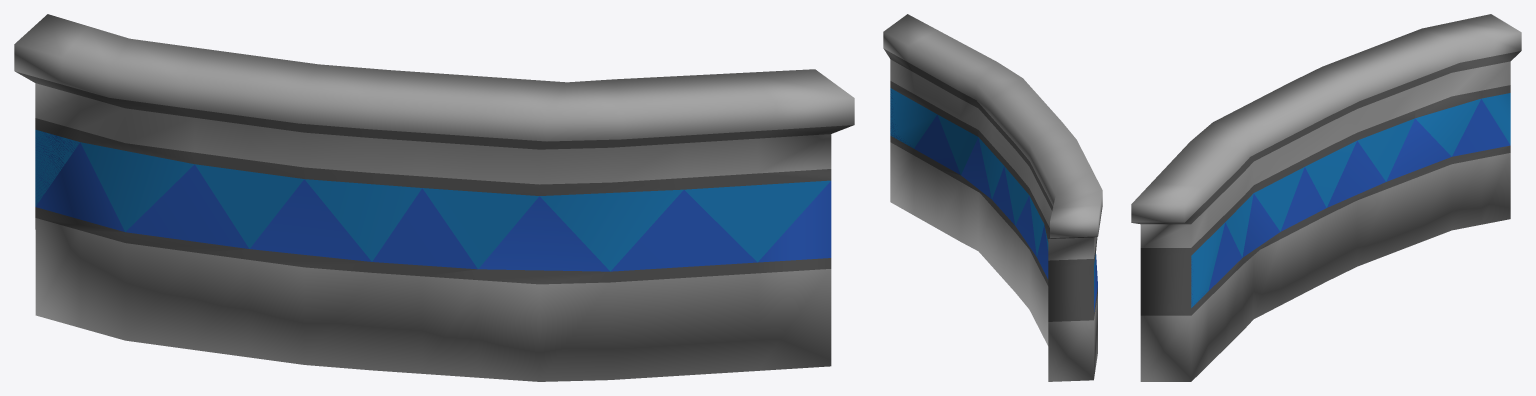
Rendered from warpwall-mirrored.fbx.
3 renders of one model, left to right at view 1: azimuth 30°, elevation 25°; view 2: azimuth 150°, elevation 25°; view 3: azimuth 270°, elevation 25°, orthographic. The views are drawn at different scales.
Visible parts, largest first — view 1: Cube; view 2: Cube; view 3: Cube.
Boxes of the visible parts, <box> form: Cube: <box>14,14,854,381</box>; Cube: <box>883,14,1102,381</box>; Cube: <box>1131,14,1521,381</box>.
Bounding box in the file's own units: 524 × 235 × 454.
